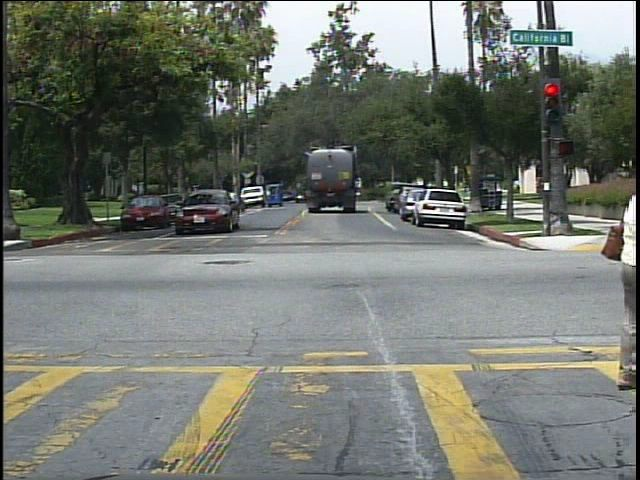person: (513, 180, 527, 199)
